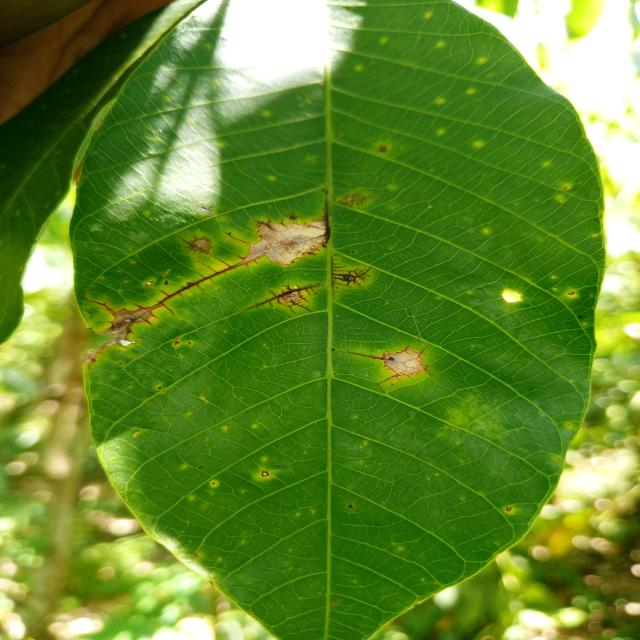Colletotrichum: (261, 471, 269, 476), (505, 507, 511, 511), (175, 341, 178, 344), (158, 386, 161, 389), (188, 342, 192, 344), (187, 283, 190, 285)
Corynespora: (132, 254, 258, 319), (244, 283, 315, 316), (330, 255, 374, 300), (348, 351, 394, 366), (87, 297, 117, 315), (338, 193, 374, 207), (183, 240, 210, 256), (224, 232, 250, 246), (323, 200, 331, 243), (374, 374, 402, 385), (252, 217, 274, 231), (417, 346, 427, 360), (398, 346, 412, 353)
Leaf-Blight: (86, 308, 154, 364), (244, 219, 326, 265), (384, 349, 426, 376)
